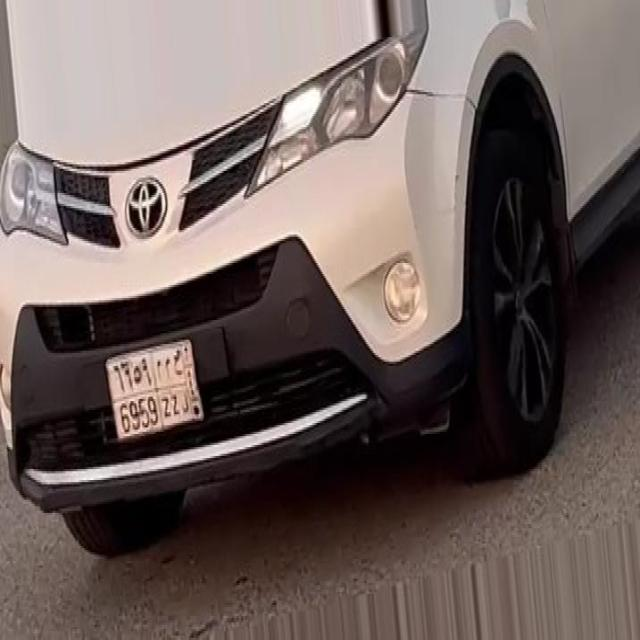Car-plate: (96, 322, 213, 458)
